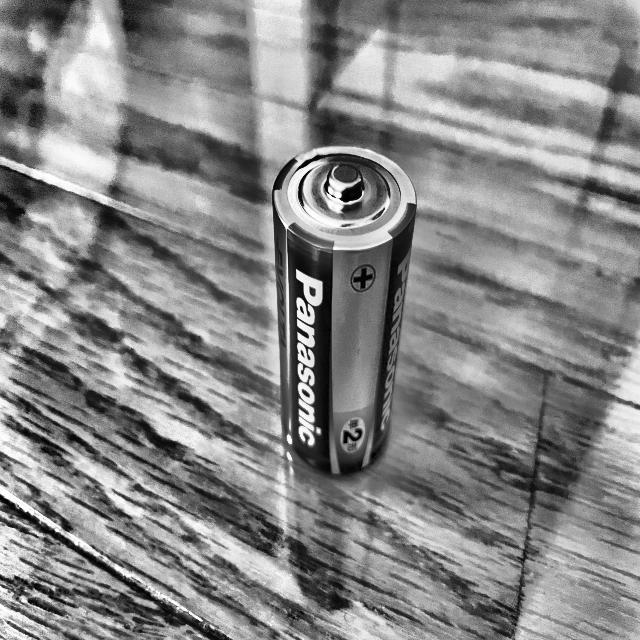drycell: (272, 145, 416, 474)
